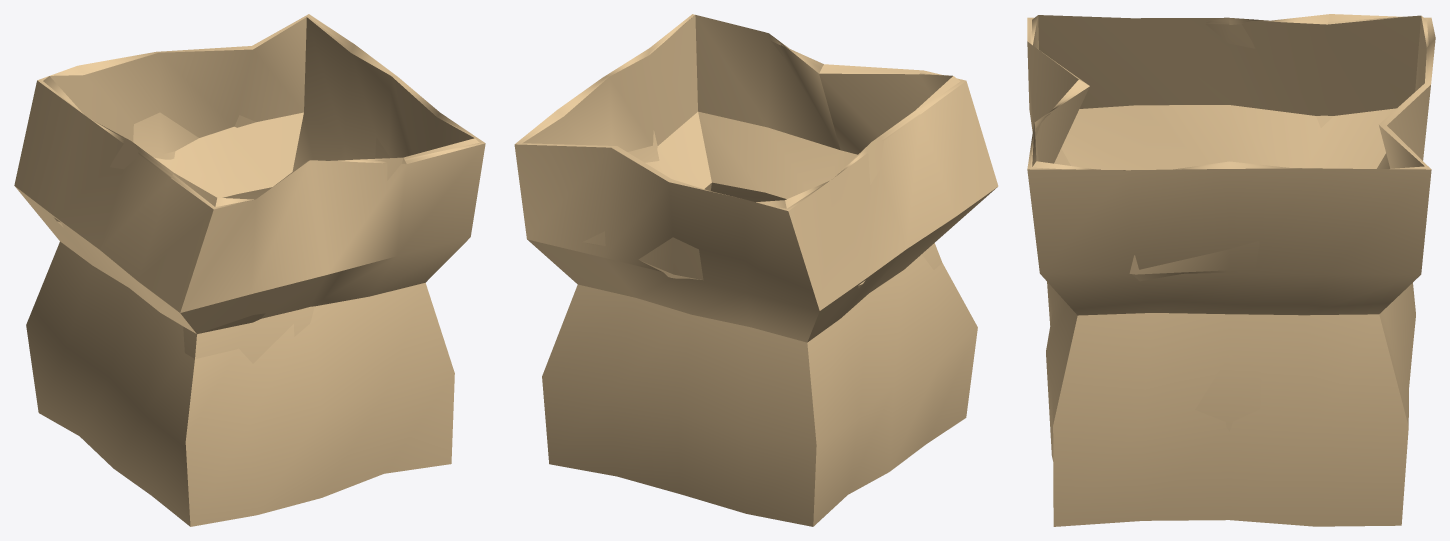
The model's file is carton1.glb.
The picture shows the model from 3 angles, left to right: view 1: azimuth 30°, elevation 25°; view 2: azimuth 150°, elevation 25°; view 3: azimuth 270°, elevation 25°; orthographic projection. The views are drawn at different scales.
Parts seen in each view (by area): view 1: Cube_006_garbage_0; view 2: Cube_006_garbage_0; view 3: Cube_006_garbage_0.
Boxes of the visible parts, x1,y1,x2,y2 form: Cube_006_garbage_0: (14, 14, 485, 526); Cube_006_garbage_0: (514, 14, 998, 526); Cube_006_garbage_0: (1027, 14, 1435, 526).
Size of the model in its own units: 4.08 by 4.25 by 4.12.
